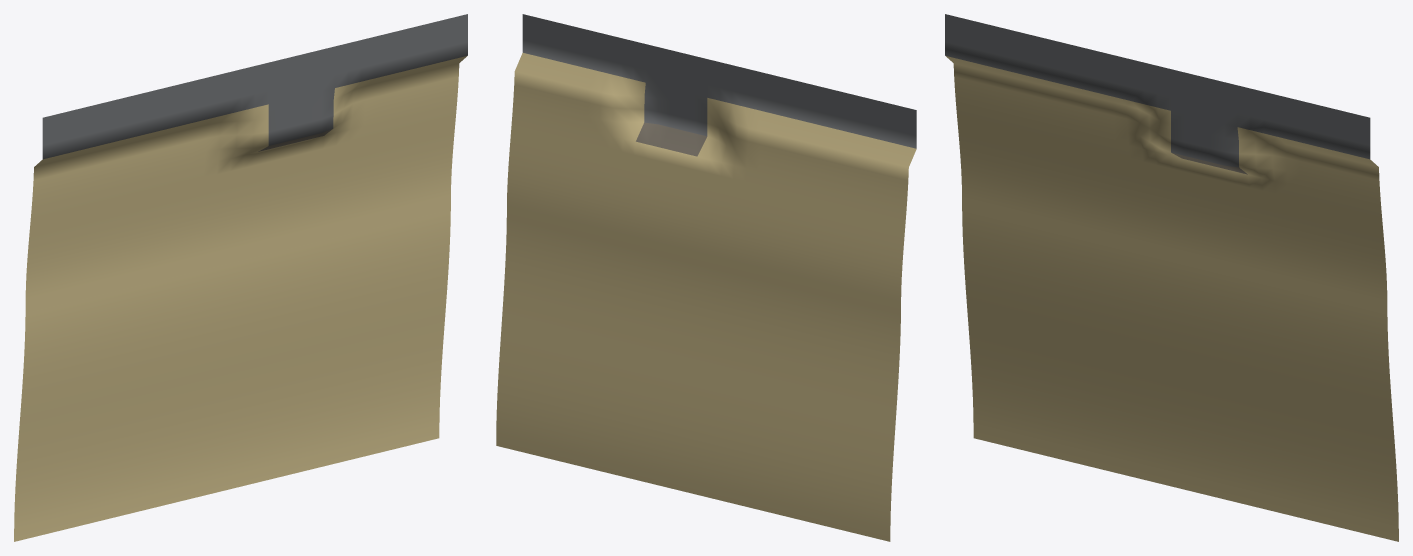
Rendered from island_terrain_06_00.obj.
The picture shows the model from 3 angles, left to right: view 1: azimuth 30°, elevation 25°; view 2: azimuth 150°, elevation 25°; view 3: azimuth 330°, elevation 25°; orthographic projection. The views are drawn at different scales.
Parts seen in each view (by area): view 1: island_terrain_06_00; view 2: island_terrain_06_00; view 3: island_terrain_06_00.
Boxes of the visible parts, x1,y1,x2,y2 form: island_terrain_06_00: (14, 14, 467, 541); island_terrain_06_00: (496, 14, 916, 541); island_terrain_06_00: (945, 14, 1398, 541).
Size of the model in its own units: 256 by 256 by 29.7.
